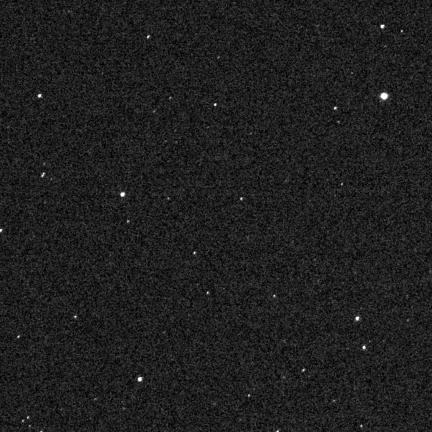blob: (381, 93, 388, 99), (356, 316, 360, 322), (121, 192, 125, 197), (193, 252, 197, 256), (362, 346, 366, 350), (381, 25, 385, 29), (138, 377, 142, 381), (302, 369, 306, 373), (38, 94, 42, 98), (18, 335, 21, 339), (207, 292, 210, 296), (273, 295, 276, 299), (147, 36, 151, 39), (214, 103, 217, 107), (334, 107, 337, 110), (241, 198, 244, 201), (127, 220, 129, 223), (0, 229, 2, 232)
